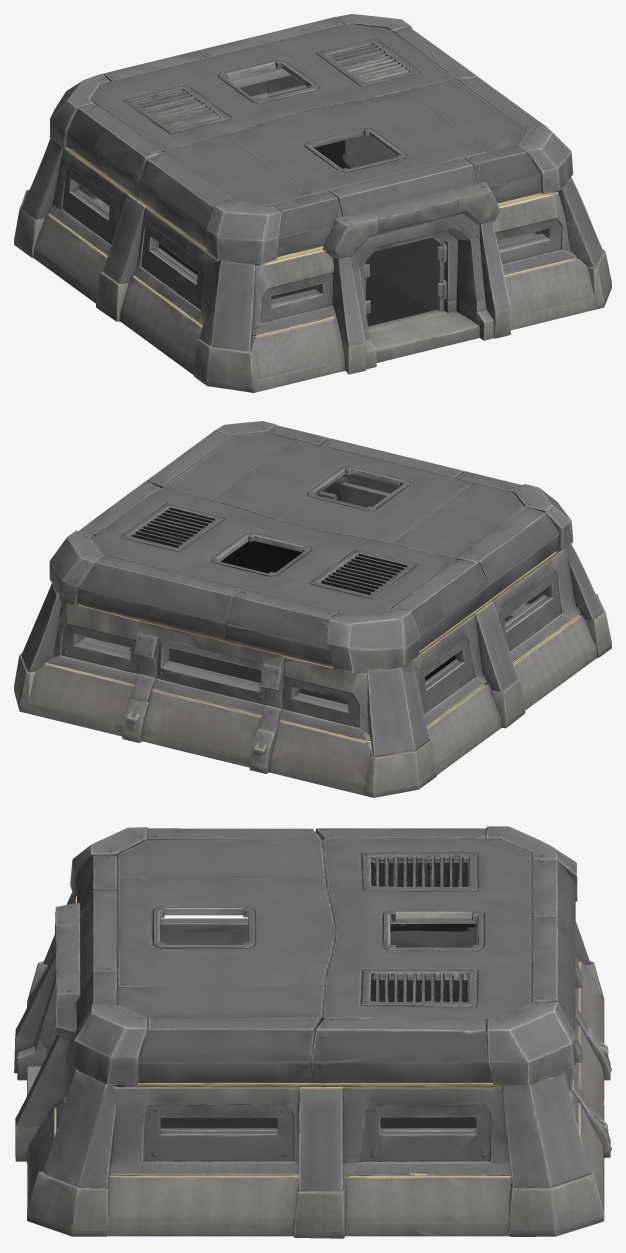
The model's file is imperial_armoured_bunker.glb.
The picture shows the model from 3 angles, top to bottom: view 1: azimuth 30°, elevation 25°; view 2: azimuth 150°, elevation 25°; view 3: azimuth 270°, elevation 25°; orthographic projection. The views are drawn at different scales.
Visible parts, largest first — view 1: mesh_node; view 2: mesh_node; view 3: mesh_node.
Boxes of the visible parts, box(x1,y1,x2,y2) form: mesh_node: box(14, 14, 611, 392); mesh_node: box(14, 421, 611, 797); mesh_node: box(14, 826, 611, 1238).
Bounding box in the file's own units: 12.12 × 4.25 × 12.27.
Materials: 1 (1 with a texture image).
